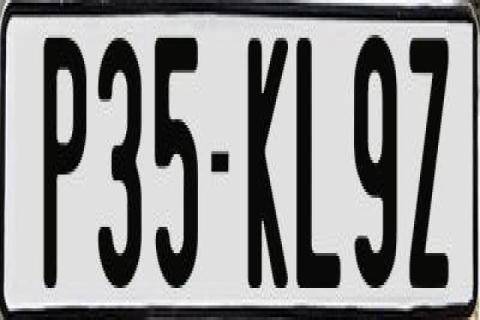0: (352, 35, 400, 305), (152, 38, 202, 288), (96, 35, 139, 297)
K: (248, 38, 290, 291)
L: (294, 38, 346, 306)
P: (43, 32, 86, 300)
Z: (408, 38, 448, 297)
